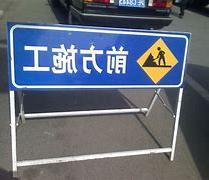sign: (9, 25, 193, 89)
